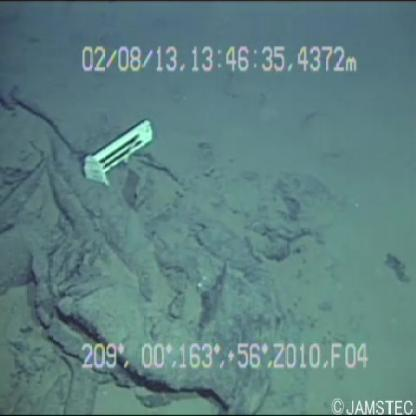Rác: (75, 100, 156, 188)
